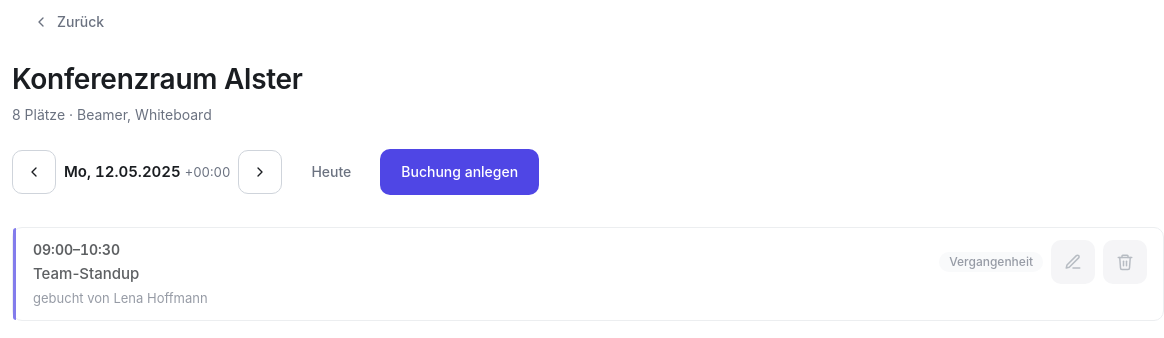
RoomDay › loads another day when the next-day control is used
The width and height of the screenshot is (1164, 338).
Expected: the text "Team-Standup" is shown, [33,264,139,283]
Click the button named "Nächster Tag" at (260, 172), box [238,150,282,194]
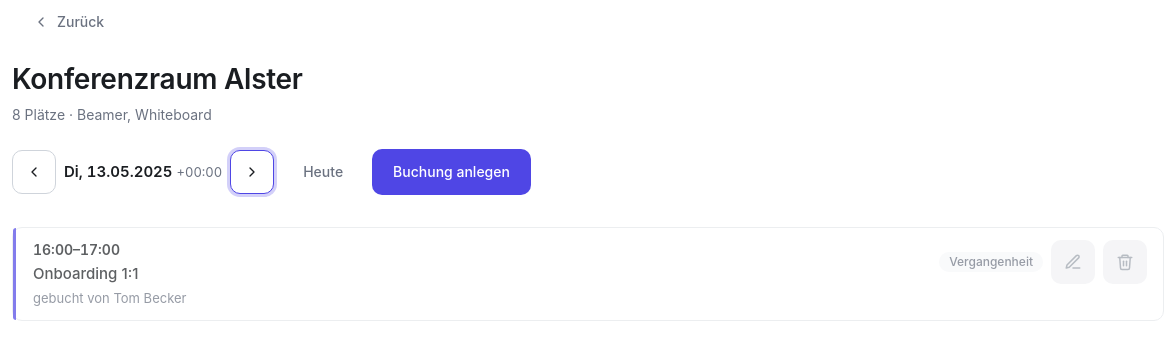
Expected: the text "Onboarding 1:1" is shown, [33,264,138,283]
Expected: the text "Team-Standup" is gone
Expected: the text "Di, 13.05.2025 +00:00" is shown, [64,162,222,182]
